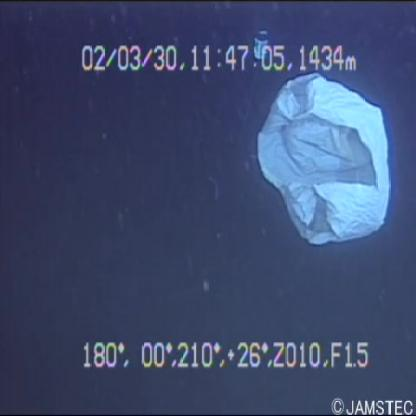Rác: (250, 40, 400, 257)
